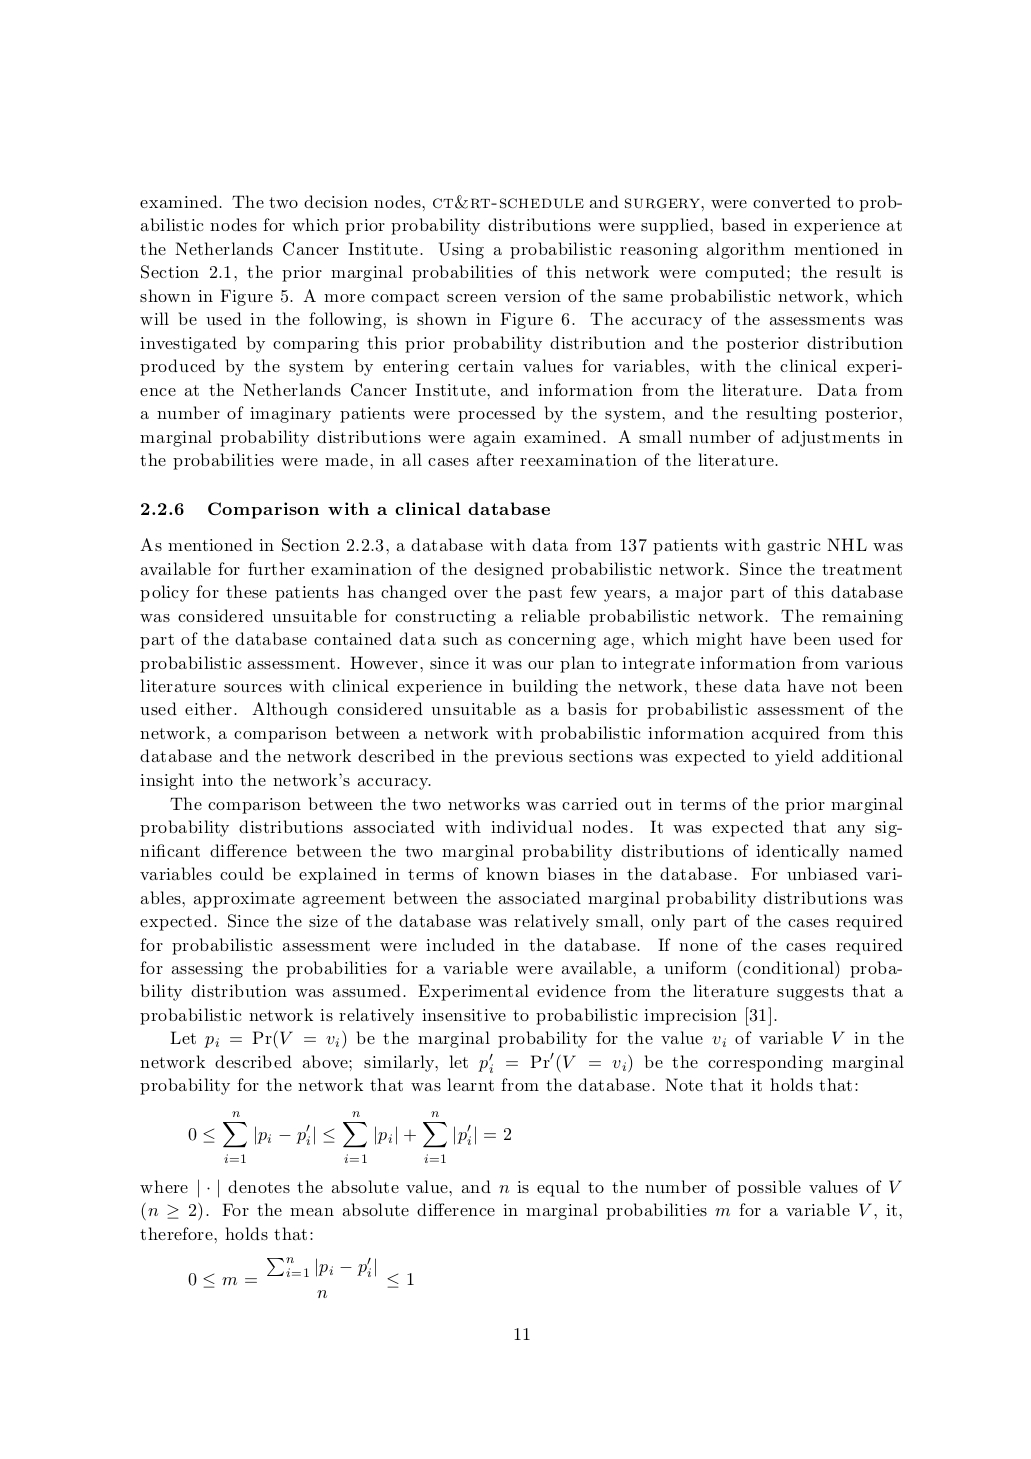formula: (187, 1111, 510, 1162), (187, 1257, 413, 1298)
